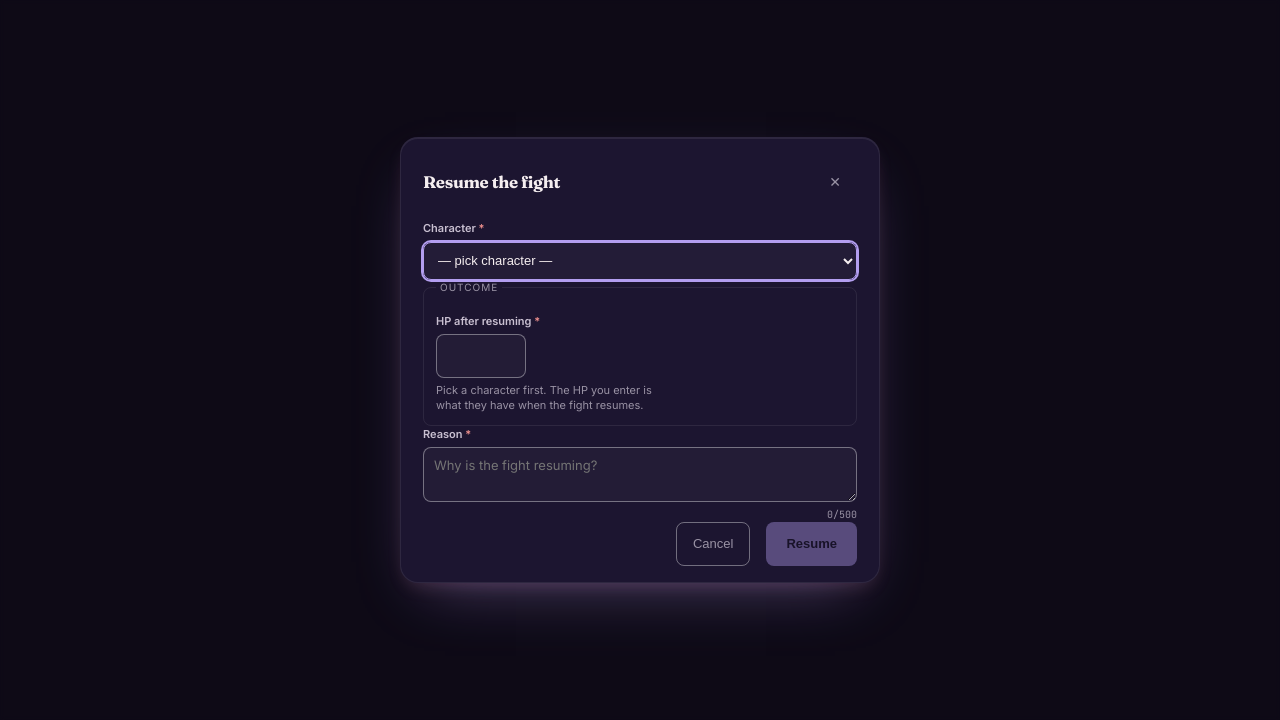
Test: before a character is picked (Aoi addendum 3, 2): the label, hint and Apply are the Resume dialog's, and the refusals name the field the label shows › no pick, and Apply pressed with a reason: the refusal asks for a character (resume wording), and sends nothing
In the text box labelled "Reason *": (640, 475) [423, 447, 857, 502], type "x"
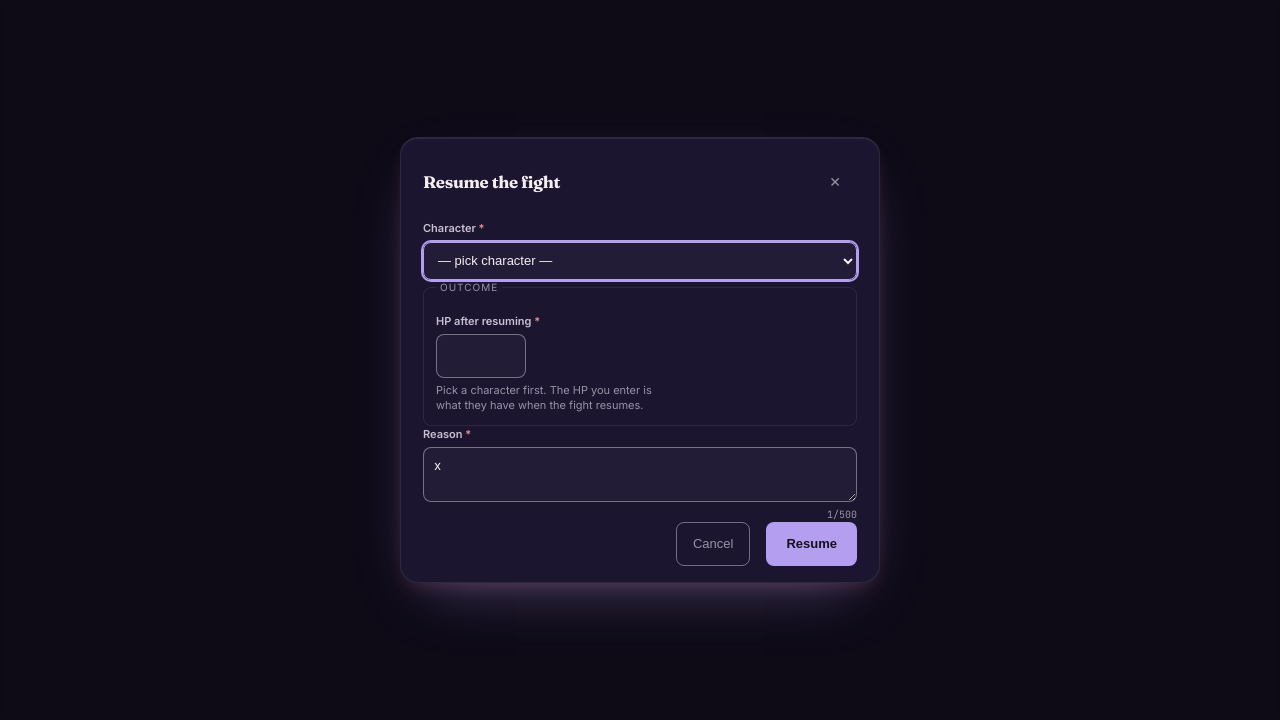
Click the submit button: (812, 544) [766, 522, 857, 566]
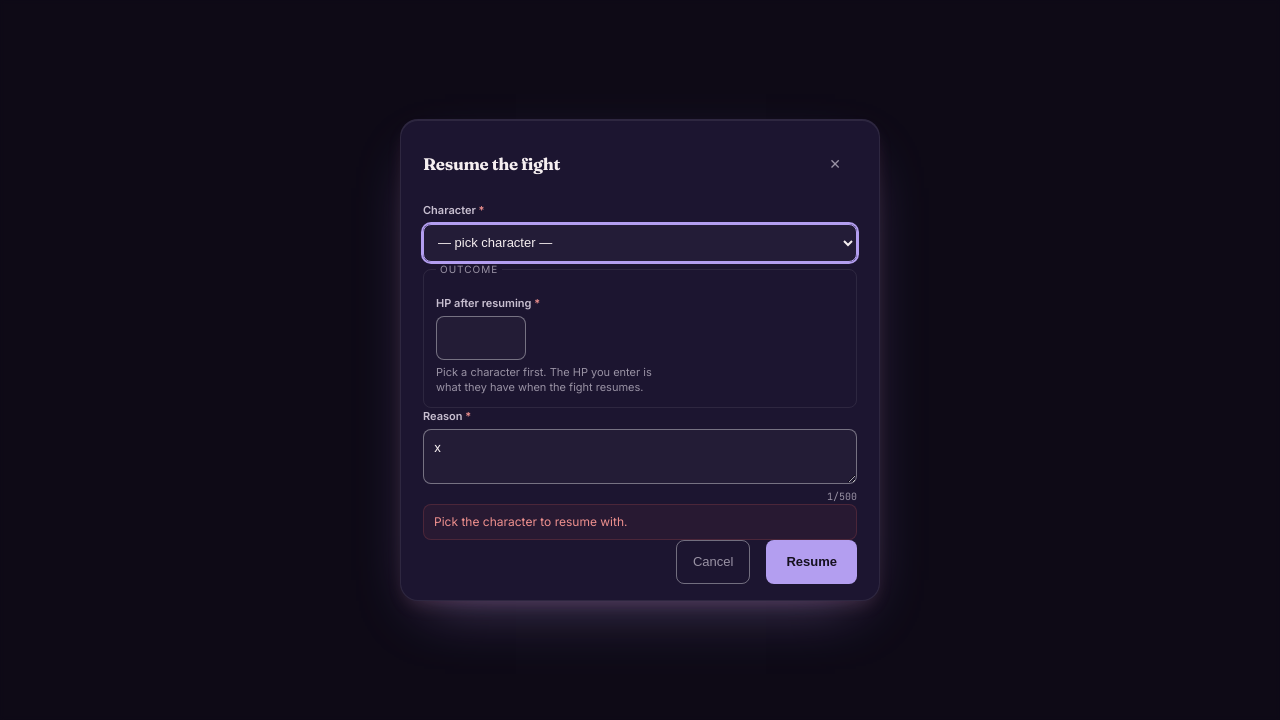
Check: the message reads "Pick the character to resume with.", box [434, 514, 628, 529]
